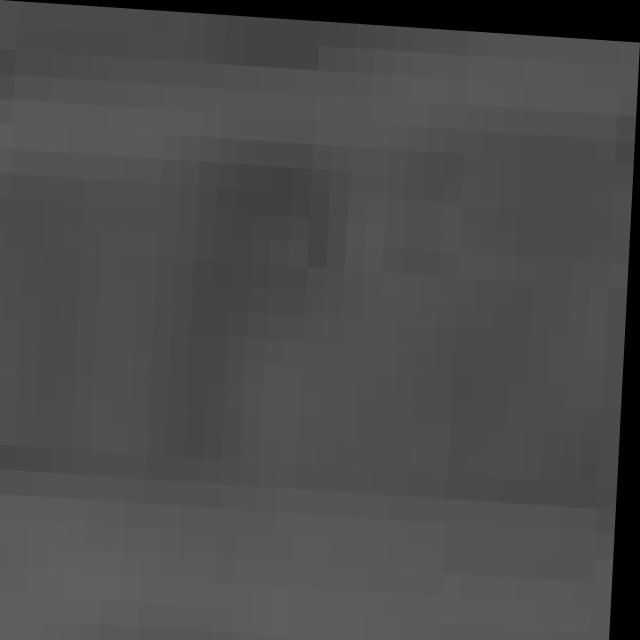fracture: (0, 27, 633, 640)
